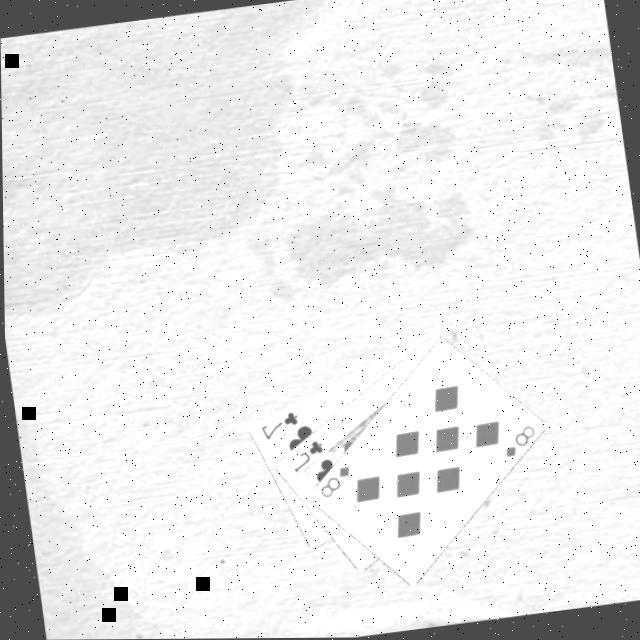7C: (253, 405, 300, 441)
8D: (310, 460, 353, 500), (495, 419, 537, 459)
JC: (283, 434, 326, 474)
